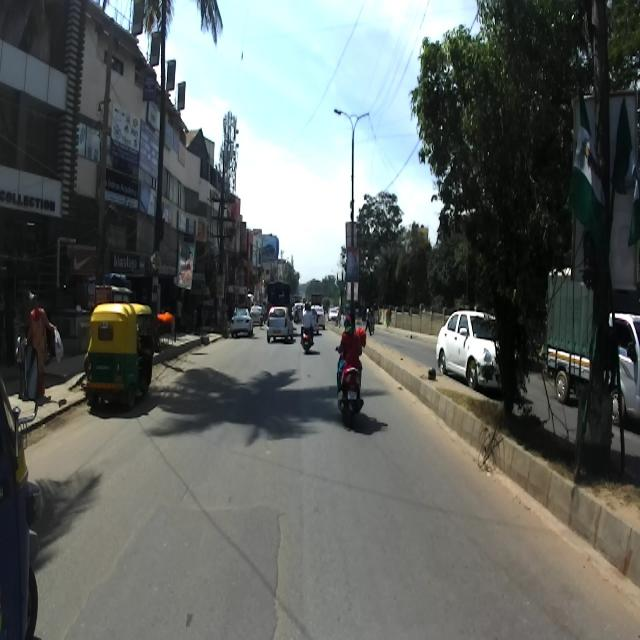Car_Maruti-Suzuki: (435, 309, 522, 393)
Car_TATA: (265, 304, 292, 340)
autorickshaw: (82, 300, 156, 409)
scooter: (333, 344, 363, 428)
truck: (546, 267, 640, 428)
